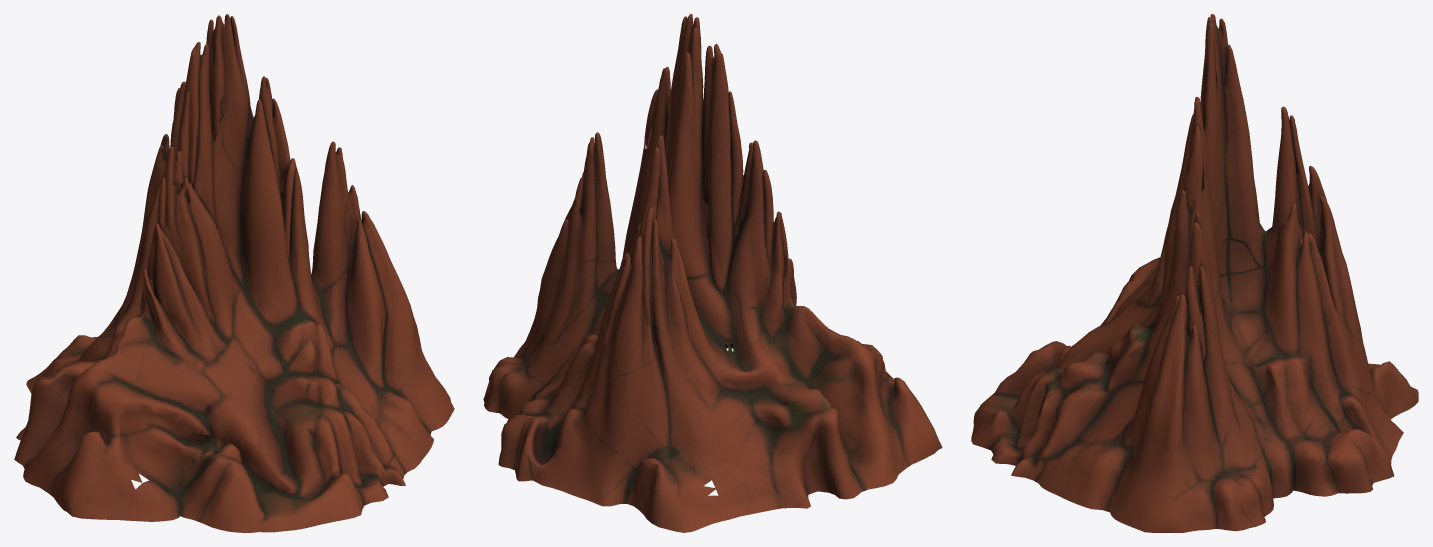
The model's file is motu-ridge.glb.
3 renders of one model, left to right at view 1: azimuth 30°, elevation 25°; view 2: azimuth 150°, elevation 25°; view 3: azimuth 270°, elevation 25°, orthographic.
Visible parts, largest first — view 1: motu-ridge; view 2: motu-ridge; view 3: motu-ridge.
Part boxes in pixels (bbox=[...]): motu-ridge: bbox=[14, 14, 454, 532]; motu-ridge: bbox=[483, 14, 942, 532]; motu-ridge: bbox=[971, 14, 1418, 532].
Bounding box in the file's own units: 1 × 1 × 0.9668.
1 material, 1 textured.
